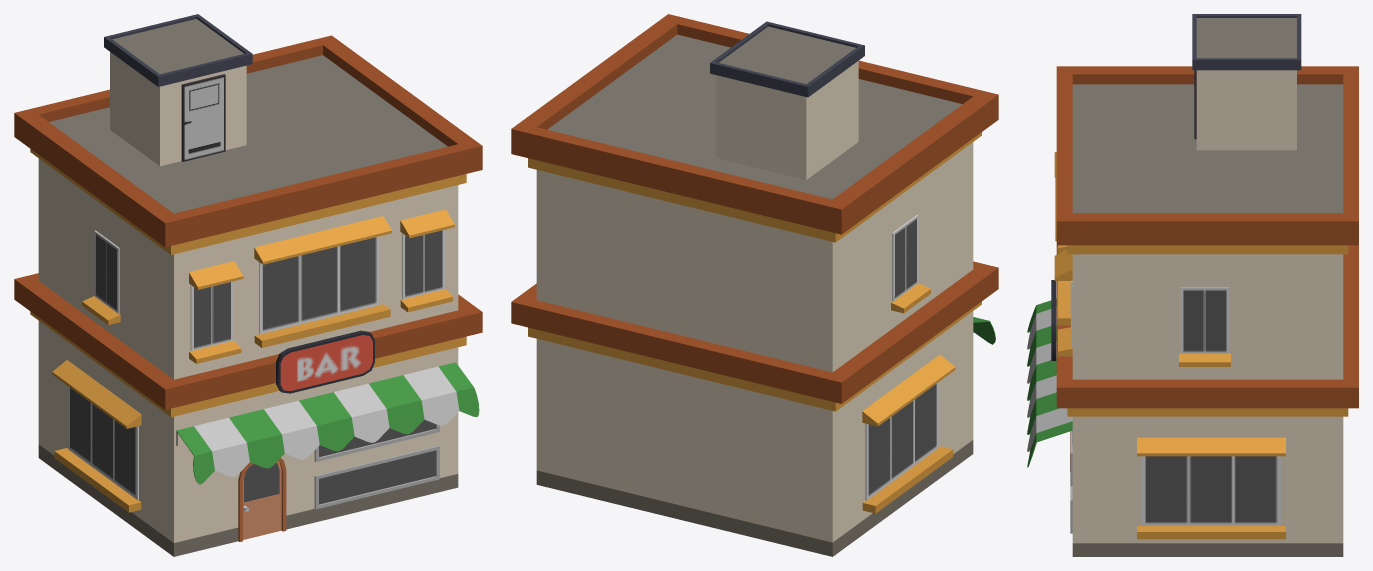
File: bar01_color03.fbx
The picture shows the model from 3 angles, left to right: view 1: azimuth 30°, elevation 25°; view 2: azimuth 150°, elevation 25°; view 3: azimuth 270°, elevation 25°; orthographic projection. The views are drawn at different scales.
Parts seen in each view (by area): view 1: bar01_color03; view 2: bar01_color03; view 3: bar01_color03.
Boxes of the visible parts, left/top/right/bottom form: bar01_color03: left=14, top=14, right=482, bottom=556; bar01_color03: left=511, top=14, right=998, bottom=556; bar01_color03: left=1027, top=14, right=1358, bottom=556.
Bounding box in the file's own units: 932 × 1193 × 842.
